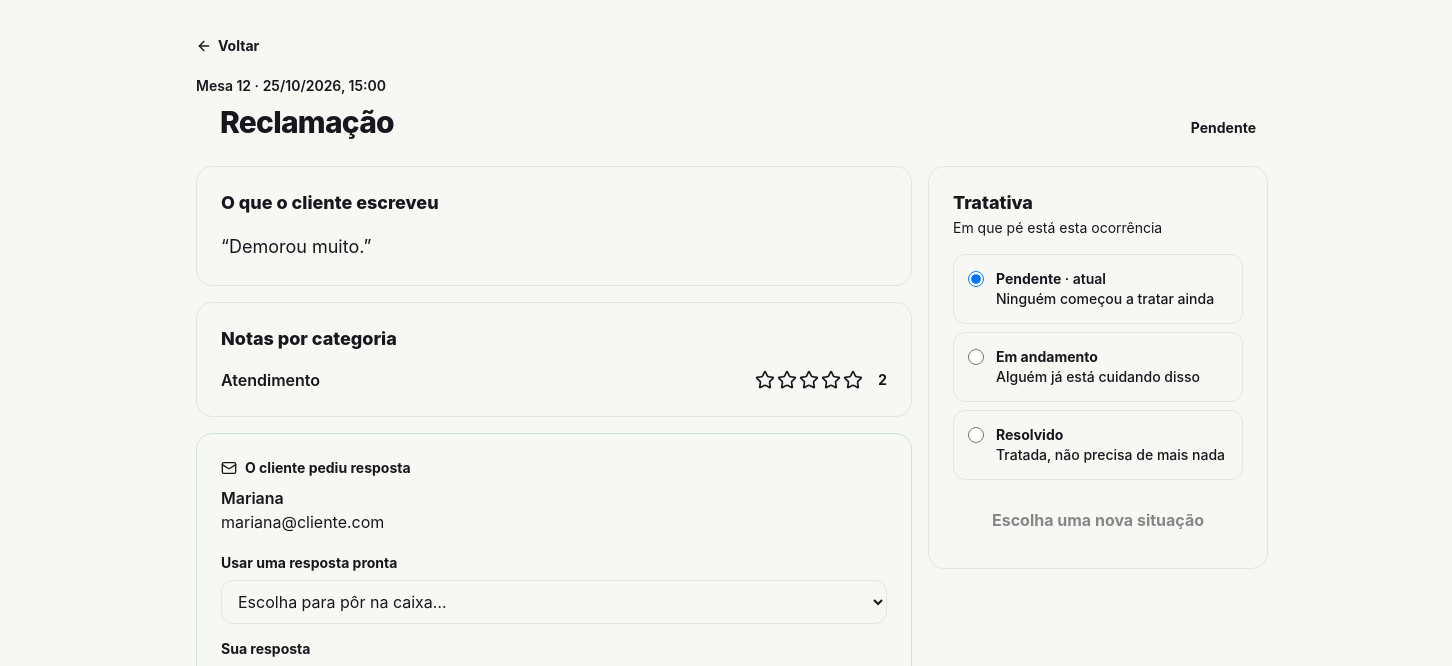
Test: com respostas prontas › se o modelo fizer passar de 2000 caracteres, o envio espera encurtar
Expected: the heading "O que o cliente escreveu" is shown, top-left (221, 192), bottom-right (439, 213)
Select "Pedido de desculpas" in the dropdown labelled "Usar uma resposta pronta" at coordinates (554, 602), box top-left (221, 580), bottom-right (887, 624)
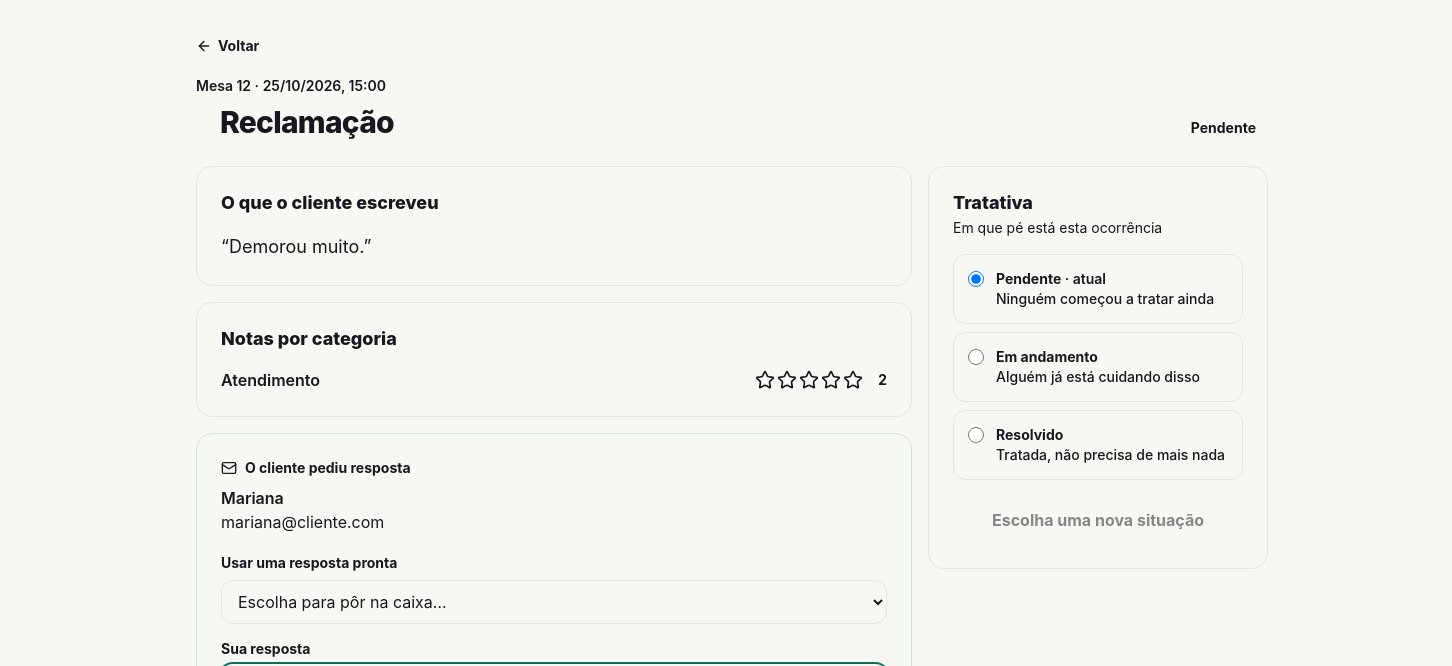
Select "Pedido de desculpas" in the dropdown labelled "Usar uma resposta pronta" at coordinates (554, 602), box top-left (221, 580), bottom-right (887, 624)
(page scrolled)
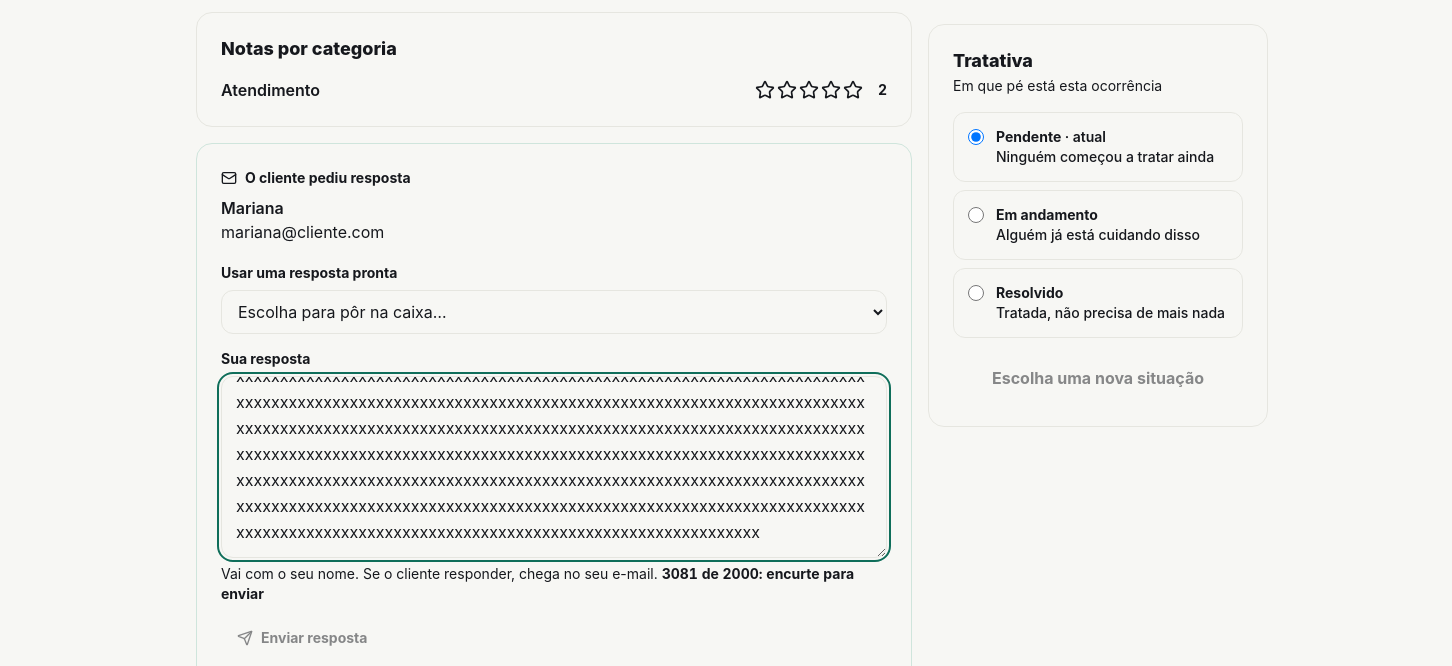
Expected: the text "3081 de 2000: encurte para enviar" is shown, top-left (221, 564), bottom-right (854, 602)
Expected: the button "Enviar resposta" is disabled, top-left (221, 616), bottom-right (383, 660)
